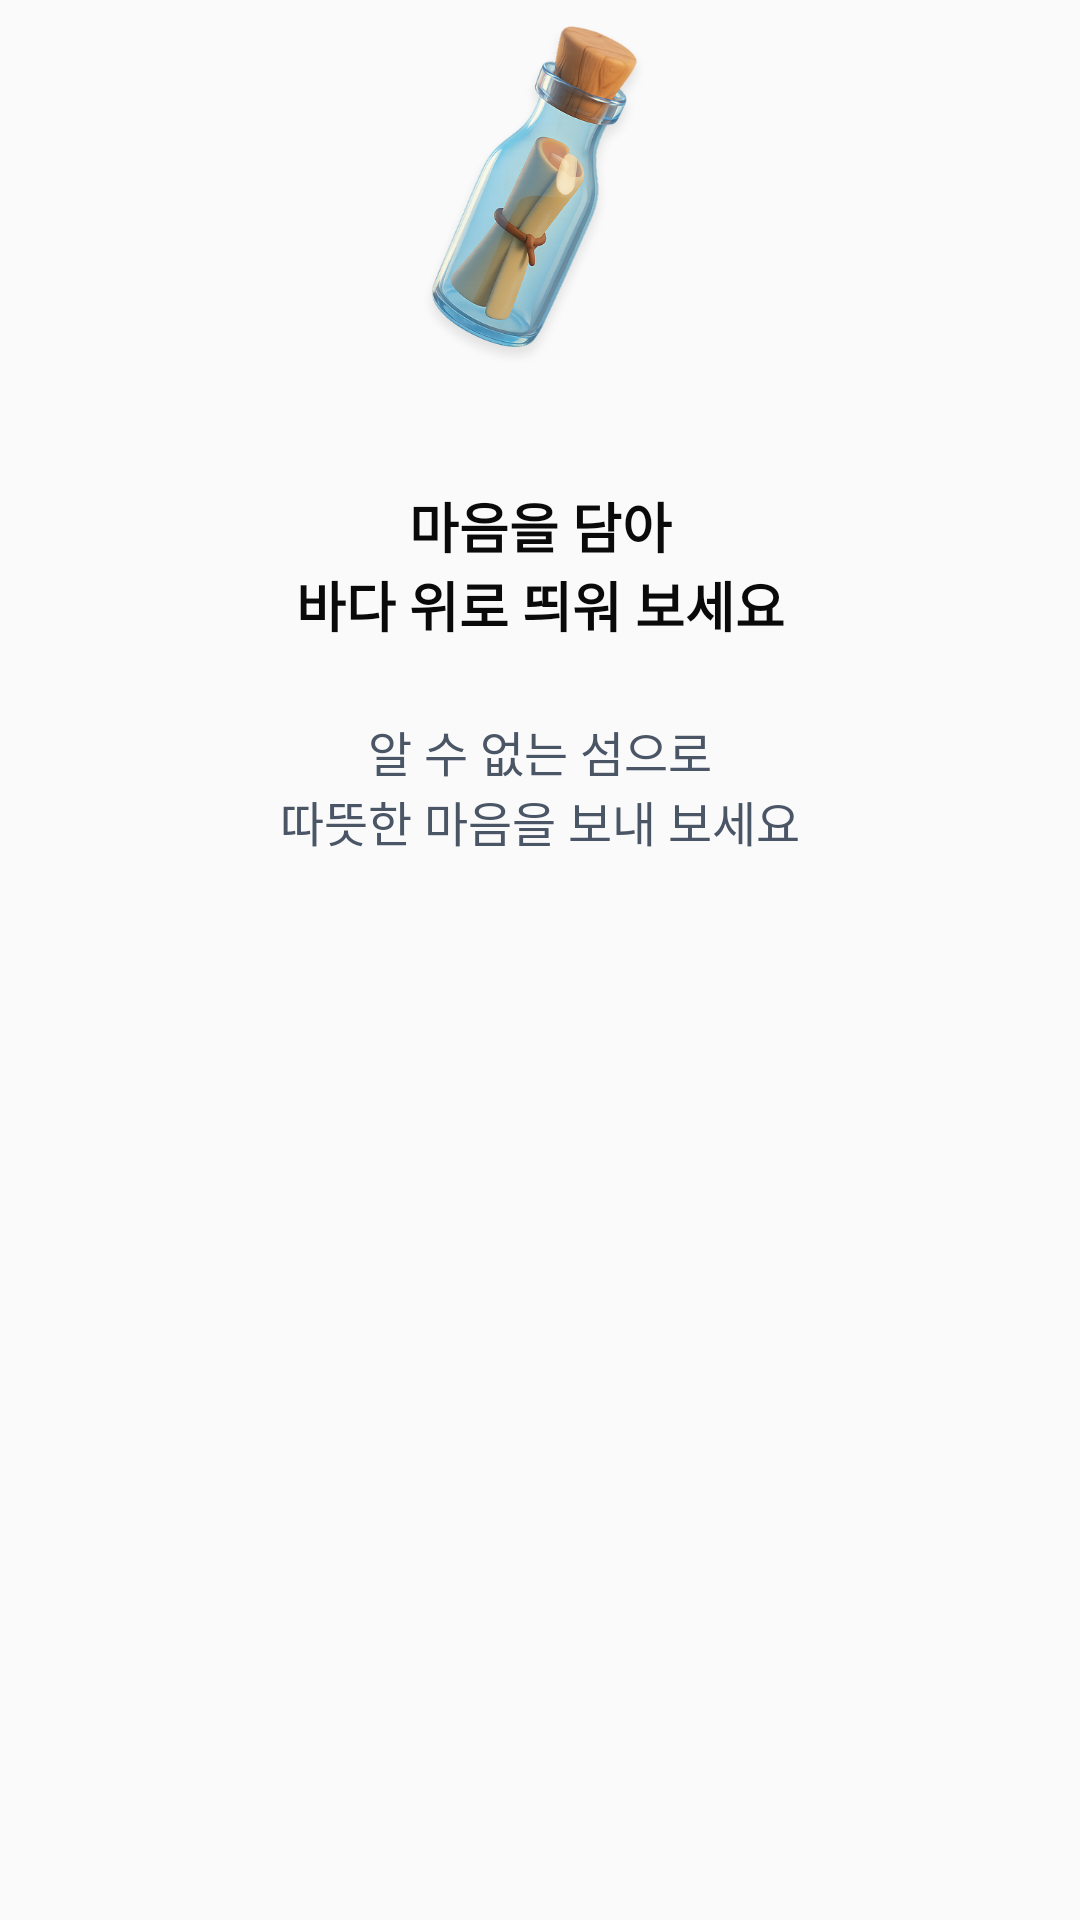

Icon click points for this 1080w x 1920h phone screenshot, format [x,y]:
bottle: [534,186]
